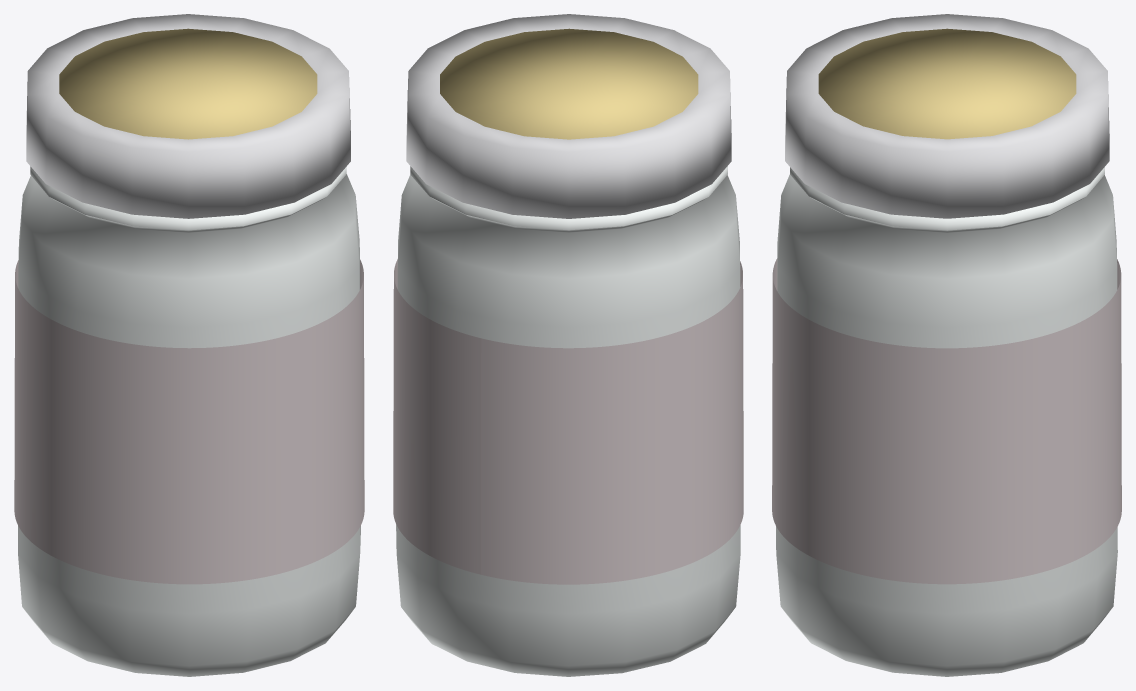
Rendered from v2_mason_preserves_minimal.glb.
3 renders of one model, left to right at view 1: azimuth 30°, elevation 25°; view 2: azimuth 150°, elevation 25°; view 3: azimuth 270°, elevation 25°, orthographic.
Visible parts, largest first — view 1: Label_band, Glass, Cap; view 2: Label_band, Glass, Cap; view 3: Label_band, Glass, Cap.
Boxes of the visible parts, x1,y1,x2,y2 form: Label_band: [14, 259, 364, 584]; Glass: [18, 166, 360, 676]; Cap: [26, 14, 350, 218]; Label_band: [393, 259, 743, 584]; Glass: [396, 166, 740, 676]; Cap: [406, 14, 731, 218]; Label_band: [772, 258, 1121, 584]; Glass: [776, 167, 1117, 676]; Cap: [785, 14, 1109, 218].
Size of the model in its own units: 0.078 by 0.1311 by 0.078.
